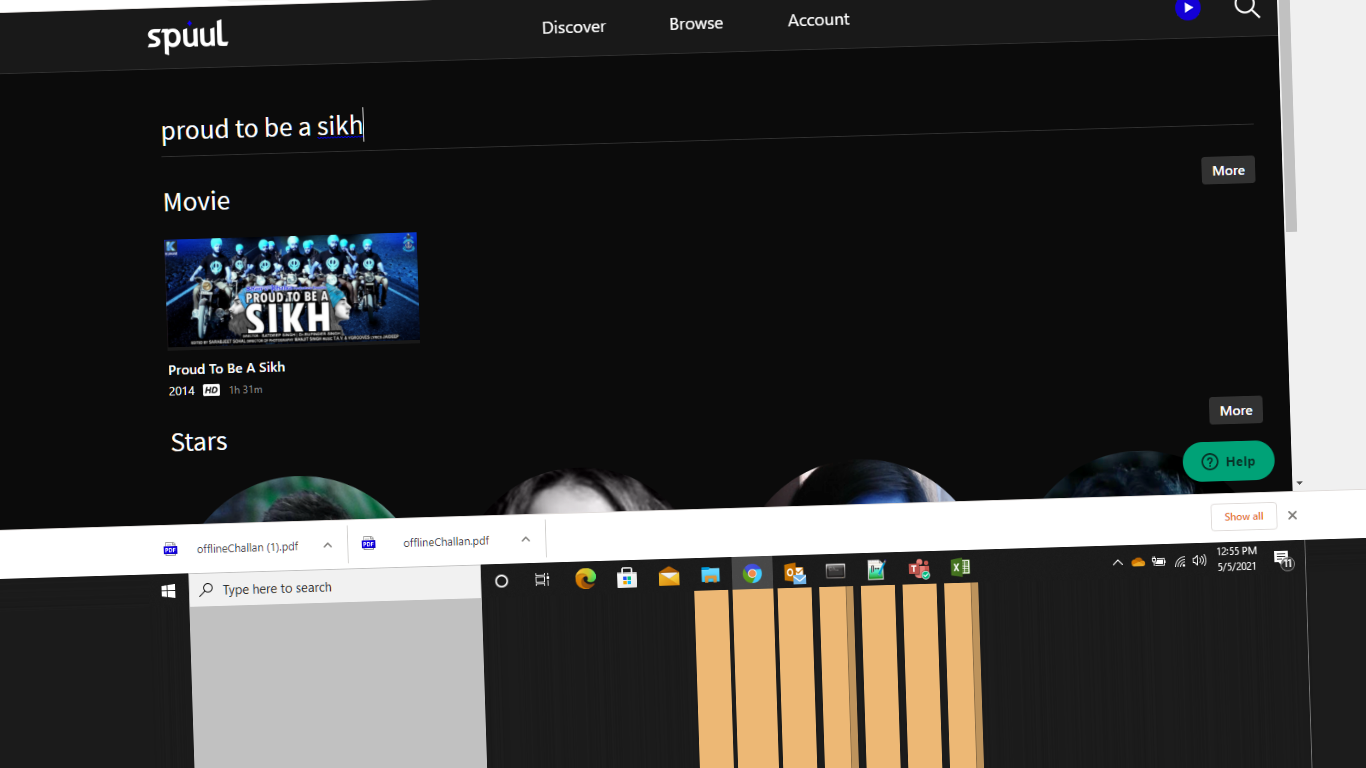myaccountbutton: (771, 4, 886, 42)
resultsfound: (147, 172, 674, 223)
searchicon: (1227, 1, 1269, 30)
searchtextbox: (148, 91, 1258, 150)
